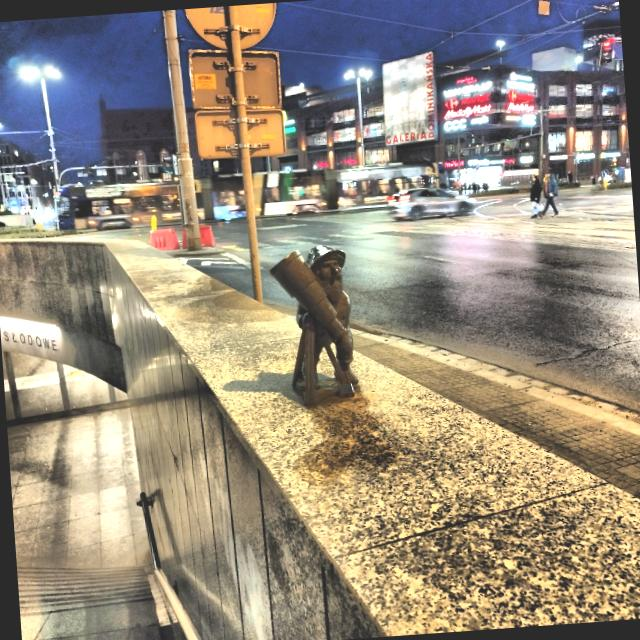Lunetyk: (269, 246, 361, 408)
